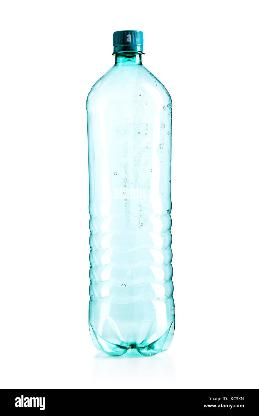Plastic Bottle: (86, 30, 174, 356)
